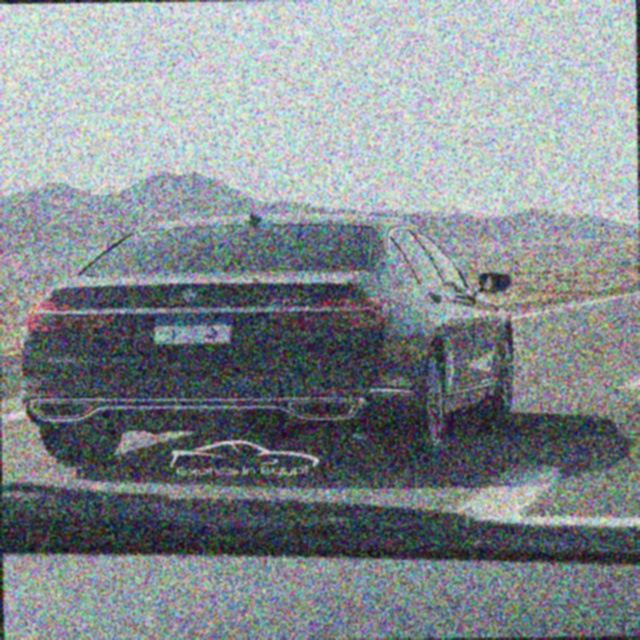License Plate: (148, 312, 235, 347)
